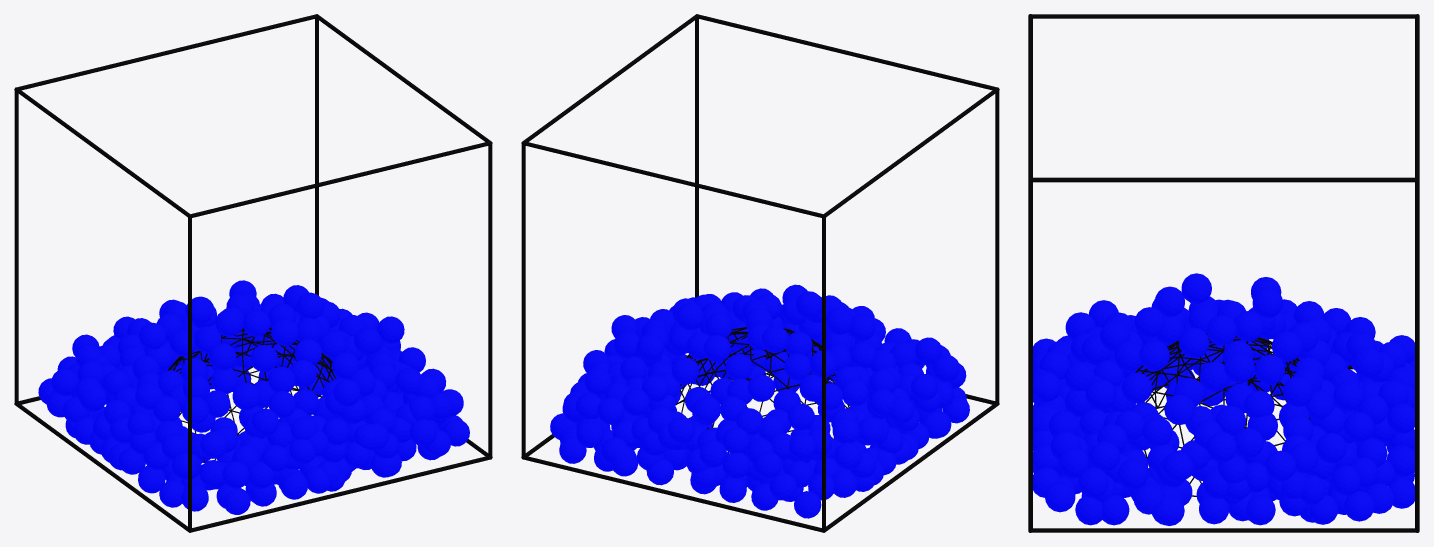
File: TryLiquid6.glb
3 views of the same model, side by side, from view 1: azimuth 30°, elevation 25°; view 2: azimuth 150°, elevation 25°; view 3: azimuth 270°, elevation 25° (orthographic). The views are drawn at different scales.
Bounding box in the file's own units: 5.06 × 5.06 × 5.06.
